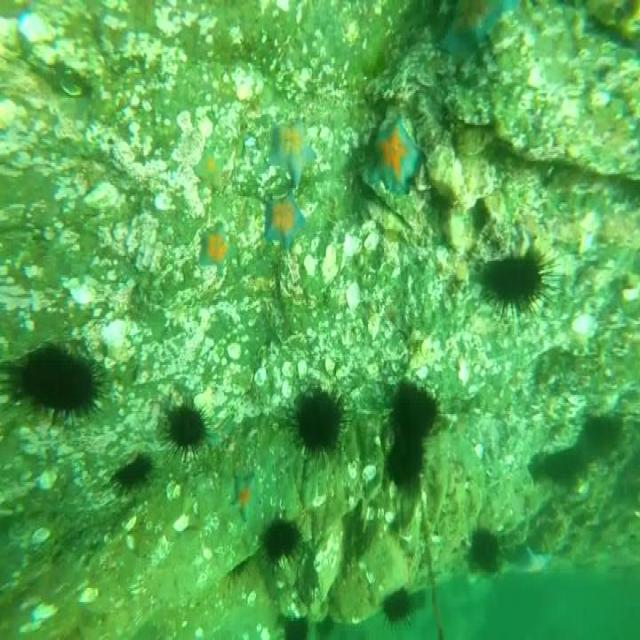echinus: (0, 348, 107, 423), (478, 245, 556, 313), (290, 378, 348, 458), (160, 395, 214, 458), (391, 382, 440, 432), (263, 515, 305, 571), (112, 455, 156, 501), (387, 434, 425, 486), (468, 530, 499, 574), (588, 419, 622, 458), (383, 597, 417, 634), (545, 450, 579, 486), (282, 618, 308, 640)
scallop: (17, 9, 51, 46), (100, 322, 130, 346), (67, 281, 97, 305), (574, 313, 598, 341), (342, 232, 364, 255), (345, 280, 361, 310), (61, 76, 82, 95), (364, 227, 379, 253), (175, 514, 194, 532), (198, 117, 214, 136), (228, 342, 242, 361), (279, 384, 293, 400), (252, 372, 268, 386), (33, 531, 50, 544), (282, 358, 294, 374)
starfish: (440, 0, 520, 62), (369, 114, 418, 194), (266, 118, 316, 182), (261, 188, 304, 254), (196, 221, 234, 267), (196, 148, 226, 186), (513, 550, 547, 575)
